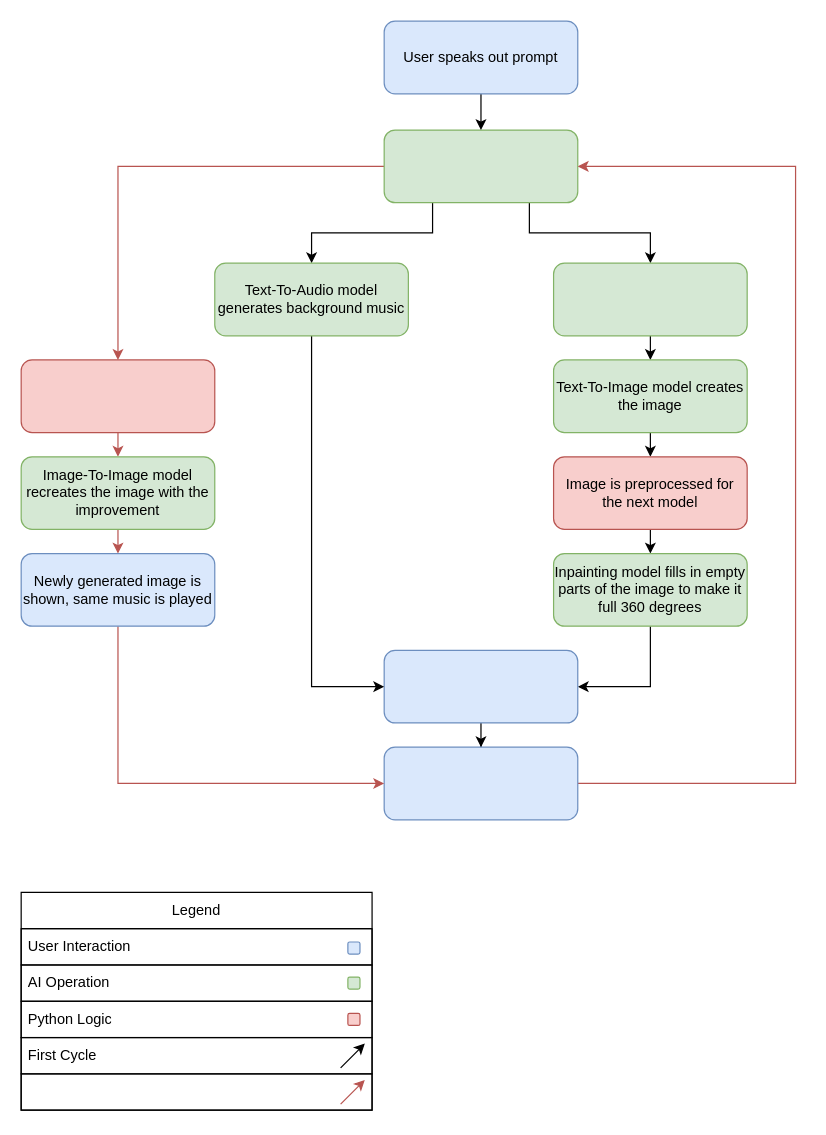
Some shapes in this 826 by 1135 pixel diagram are drawn without their labels. The shapes that lost their labels are listed below. From the top down, each one's centre as x and y in pixels, then its label:
the point at 480,166: Voice-To-Text model captures the user's request
the point at 649,299: Text-To-Text model rewrites the prompt to create a better image
the point at 117,396: We get the original generated image
the point at 480,686: Newly generated image is shown, music is played
the point at 480,783: User asks for improvement or a change
the point at 196,1091: Second Cycle
